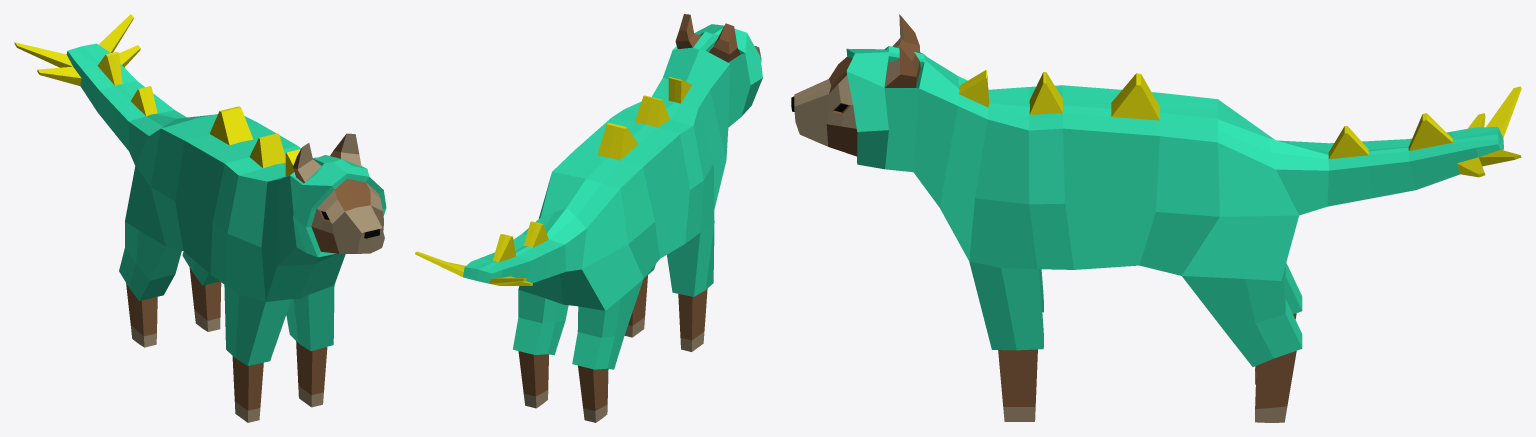
The model's file is Sheppard.fbx.
3 renders of one model, left to right at view 1: azimuth 30°, elevation 25°; view 2: azimuth 150°, elevation 25°; view 3: azimuth 270°, elevation 25°, orthographic. The views are drawn at different scales.
Visible parts, largest first — view 1: Plane; view 2: Plane; view 3: Plane.
Boxes of the visible parts, bbox=[...] form: Plane: bbox=[14, 14, 386, 422]; Plane: bbox=[415, 14, 762, 422]; Plane: bbox=[791, 14, 1521, 422].
Size of the model in its own units: 237 by 598 by 1061.
